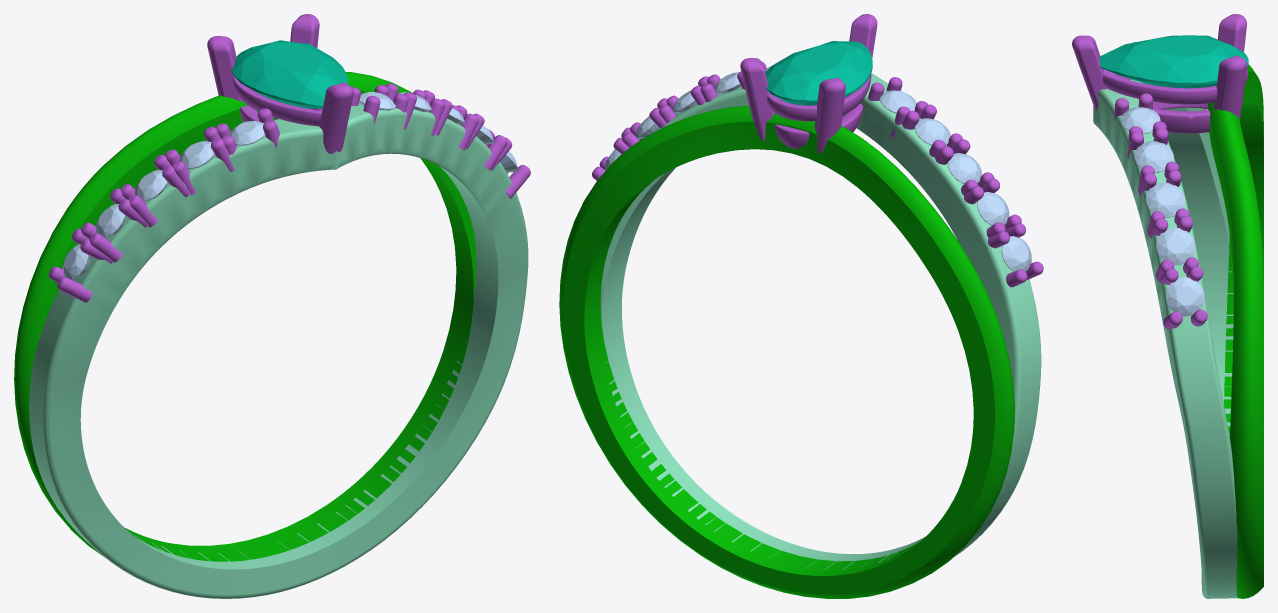
3 renders of one model, left to right at view 1: azimuth 30°, elevation 25°; view 2: azimuth 150°, elevation 25°; view 3: azimuth 270°, elevation 25°, orthographic. The views are drawn at different scales.
Parts seen in each view (by area): view 1: Ref.6_piedra esmeralda peract0.25_16 diamantes_2,6grs Oro A , Diamond_Pear, Head Prong (×3), Diamond_Round (×5), Head Rail; view 2: Ref.6_piedra esmeralda peract0.25_16 diamantes_2,6grs Oro A , Diamond_Pear, Head Prong (×3), Diamond_Round (×4), Head Rail (×2); view 3: Ref.6_piedra esmeralda peract0.25_16 diamantes_2,6grs Oro A , Diamond_Pear, Diamond_Round (×5), Head Prong (×3), Head Rail (×2).
Part boxes in pixels (x1,y1,x2,y2): Ref.6_piedra esmeralda peract0.25_16 diamantes_2,6grs Oro A : (14, 72, 528, 598); Diamond_Pear: (231, 40, 348, 108); Head Prong (×3): (207, 14, 353, 153); Diamond_Round (×5): (63, 120, 264, 280); Head Rail: (233, 77, 322, 126); Ref.6_piedra esmeralda peract0.25_16 diamantes_2,6grs Oro A : (559, 73, 1041, 598); Diamond_Pear: (765, 41, 872, 105); Head Prong (×3): (740, 14, 877, 153); Diamond_Round (×4): (915, 118, 1031, 271); Head Rail (×2): (767, 73, 871, 148); Ref.6_piedra esmeralda peract0.25_16 diamantes_2,6grs Oro A : (1093, 65, 1263, 598); Diamond_Pear: (1099, 35, 1248, 88); Diamond_Round (×5): (1121, 107, 1204, 316); Head Prong (×3): (1072, 14, 1247, 121); Head Rail (×2): (1102, 68, 1247, 133).
Bounding box in the file's own units: 2.62 × 2.87 × 0.9312.
